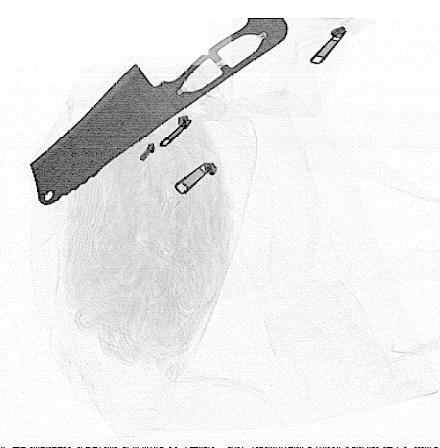Knife: (28, 18, 290, 206)
